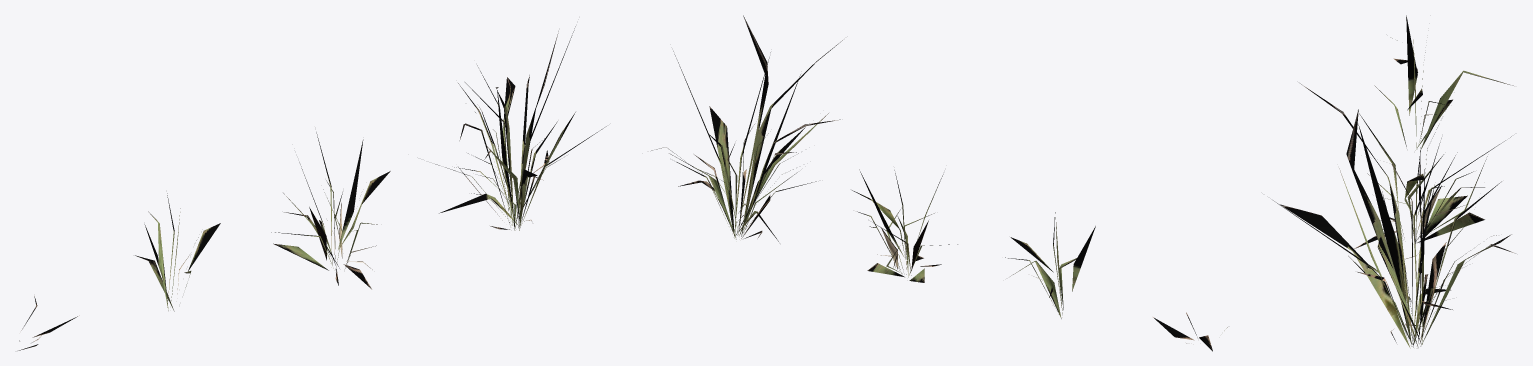
File: grass_medium_02.glb
3 views of the same model, side by side, from view 1: azimuth 30°, elevation 25°; view 2: azimuth 150°, elevation 25°; view 3: azimuth 270°, elevation 25° (orthographic). The views are drawn at different scales.
Visible parts, largest first — view 1: grass_medium_02_a; view 2: grass_medium_02_a; view 3: grass_medium_02_a.
Part boxes in pixels (box(x1,y1,x2,y2)): grass_medium_02_a: box(18, 26, 606, 350); grass_medium_02_a: box(651, 15, 1227, 351); grass_medium_02_a: box(1273, 15, 1515, 348).
Bounding box in the file's own units: 1.05 × 0.3771 × 0.3494.
1 material, 1 textured.
